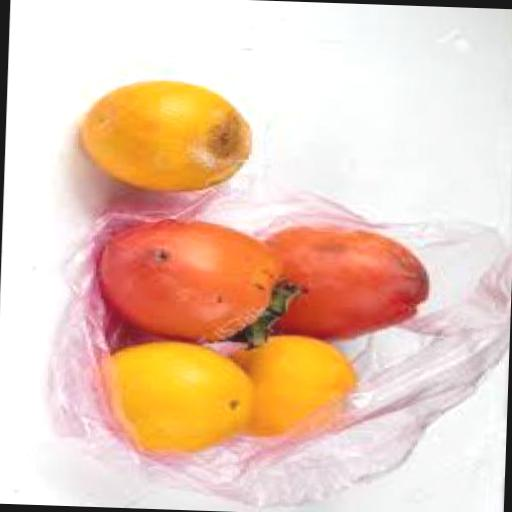biodegradable: (98, 218, 309, 353), (78, 79, 258, 196), (260, 226, 432, 344), (103, 340, 254, 456), (231, 334, 358, 442)
plastic: (47, 181, 512, 512)
